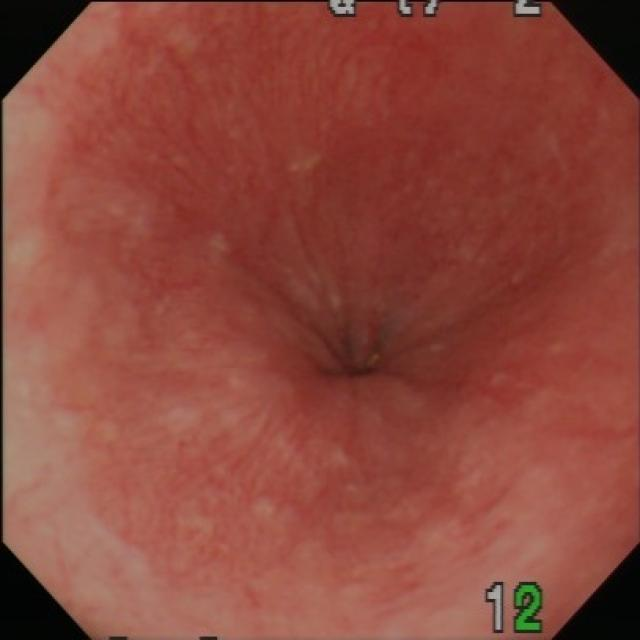I: (226, 213, 490, 475)
S: (485, 581, 547, 636), (325, 3, 545, 18)
